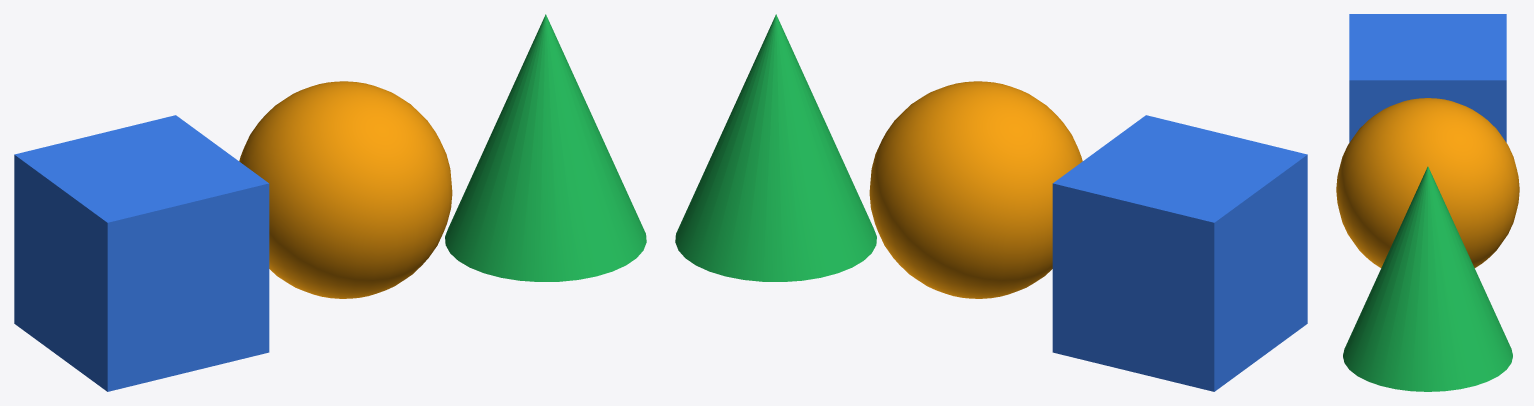
The model's file is viewer-test.glb.
The picture shows the model from 3 angles, left to right: view 1: azimuth 30°, elevation 25°; view 2: azimuth 150°, elevation 25°; view 3: azimuth 270°, elevation 25°; orthographic projection. The views are drawn at different scales.
Parts seen in each view (by area): view 1: BlueCube, OrangeSphere, GreenCone; view 2: BlueCube, OrangeSphere, GreenCone; view 3: GreenCone, OrangeSphere, BlueCube.
Boxes of the visible parts, left/top/right/bottom form: BlueCube: left=14, top=115, right=269, bottom=391; OrangeSphere: left=239, top=81, right=452, bottom=298; GreenCone: left=445, top=14, right=646, bottom=281; BlueCube: left=1052, top=115, right=1307, bottom=391; OrangeSphere: left=869, top=81, right=1082, bottom=298; GreenCone: left=675, top=14, right=876, bottom=281; GreenCone: left=1343, top=166, right=1512, bottom=391; OrangeSphere: left=1336, top=98, right=1519, bottom=267; BlueCube: left=1349, top=14, right=1506, bottom=142.
Size of the model in its own units: 4.25 by 1.6 by 1.4.
